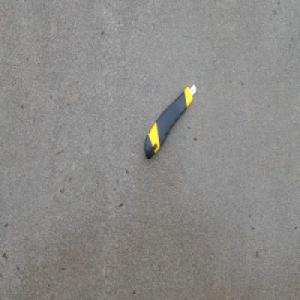Cutter: (144, 82, 197, 160)
